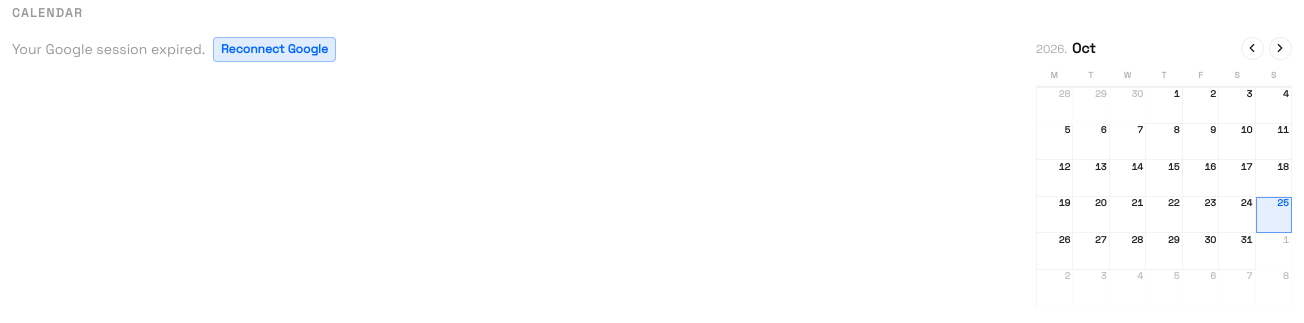
Test: CalendarWidget Google reconnect › offers a reconnect button when the Google session expired, and reloads after reconnecting
Click the button "Reconnect Google". click: (275, 49)
box: [213,37,336,62]
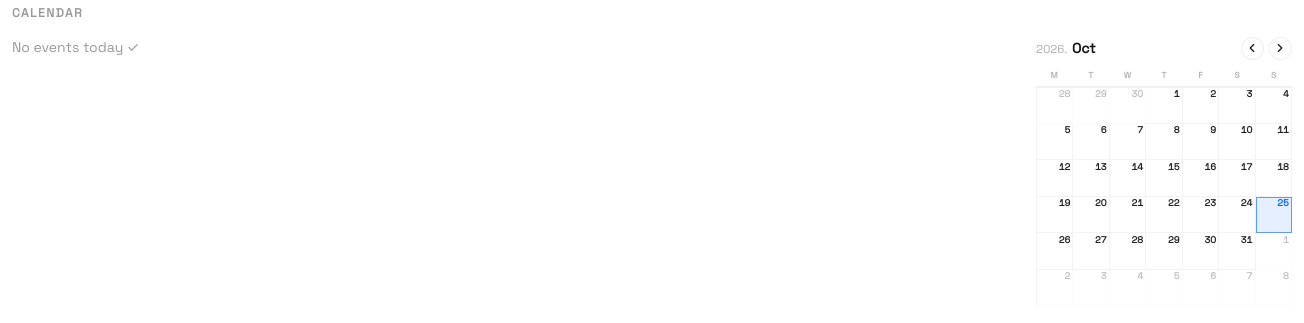
Expected: the button "Reconnect Google" is gone
